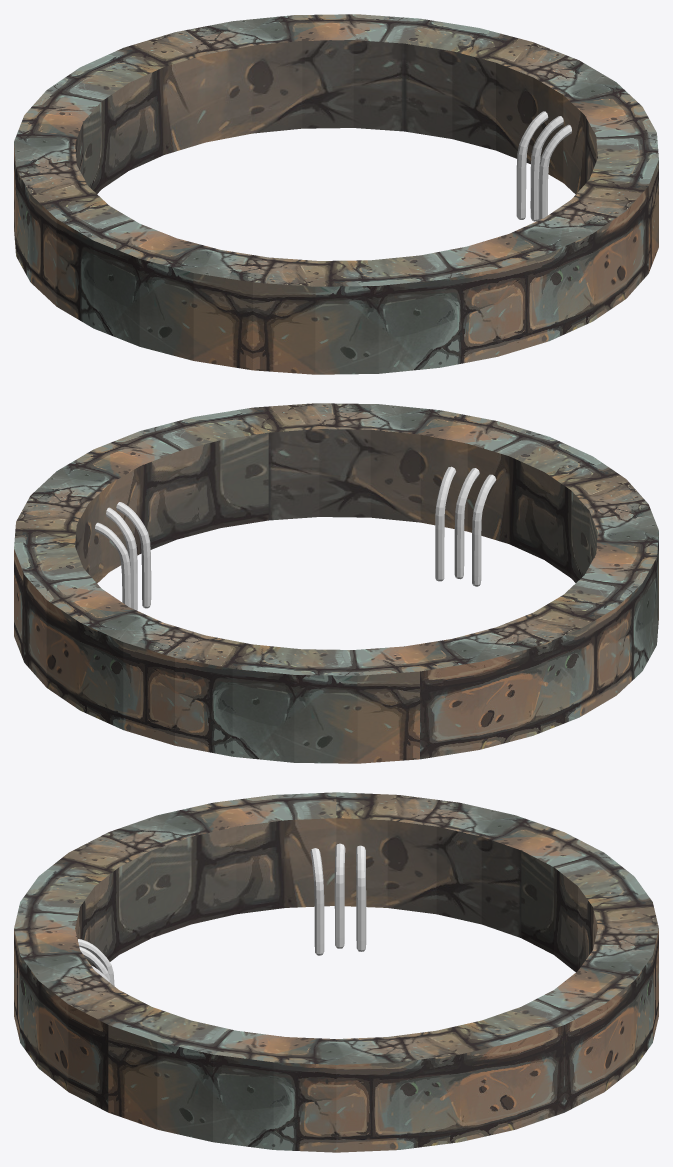
The model's file is Hole.fbx.
The picture shows the model from 3 angles, top to bottom: view 1: azimuth 30°, elevation 25°; view 2: azimuth 150°, elevation 25°; view 3: azimuth 270°, elevation 25°; orthographic projection.
Parts seen in each view (by area): view 1: Circle, Pipe.003, Pipe.004, Pipe.005; view 2: Circle, Pipe.007, Pipe.006, Pipe.008, Pipe.005, Pipe.004, Pipe.003; view 3: Circle, Pipe.002, Pipe, Pipe.001.
Boxes of the visible parts, bbox=[...] form: Circle: bbox=[14, 14, 658, 374]; Pipe.003: bbox=[516, 111, 548, 219]; Pipe.004: bbox=[530, 116, 563, 221]; Pipe.005: bbox=[538, 124, 571, 219]; Circle: bbox=[14, 403, 658, 763]; Pipe.007: bbox=[454, 468, 479, 579]; Pipe.006: bbox=[435, 466, 455, 581]; Pipe.008: bbox=[472, 474, 496, 586]; Pipe.005: bbox=[116, 502, 151, 608]; Pipe.004: bbox=[106, 507, 137, 610]; Pipe.003: bbox=[95, 522, 130, 607]; Circle: bbox=[14, 792, 658, 1152]; Pipe.002: bbox=[310, 848, 324, 955]; Pipe: bbox=[356, 845, 366, 951]; Pipe.001: bbox=[334, 843, 345, 948].
Size of the model in its own units: 247 by 53.02 by 247.
Materials: 2 (1 with a texture image).
